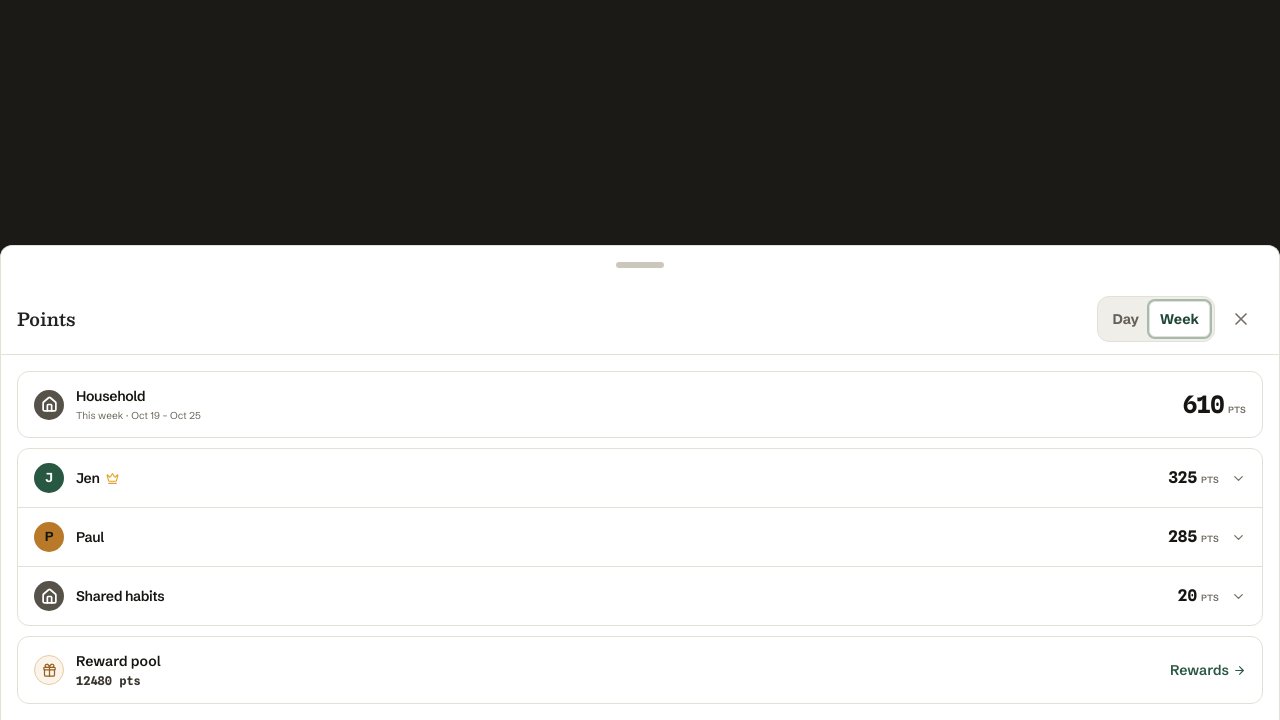
Test: PointsBreakdownDrawer › Shared habits row (household-points-visibility) › keeps the Shared habits row mounted across a Day↔Week switch, with no intermediate blank frame
The image size is (1280, 720).
Check: the element with test id "points-drawer-household-row" is shown, box [18,566,1262,625]
Click the radio button labelled "Day". click: [1126, 319]
box: [1102,301,1149,337]
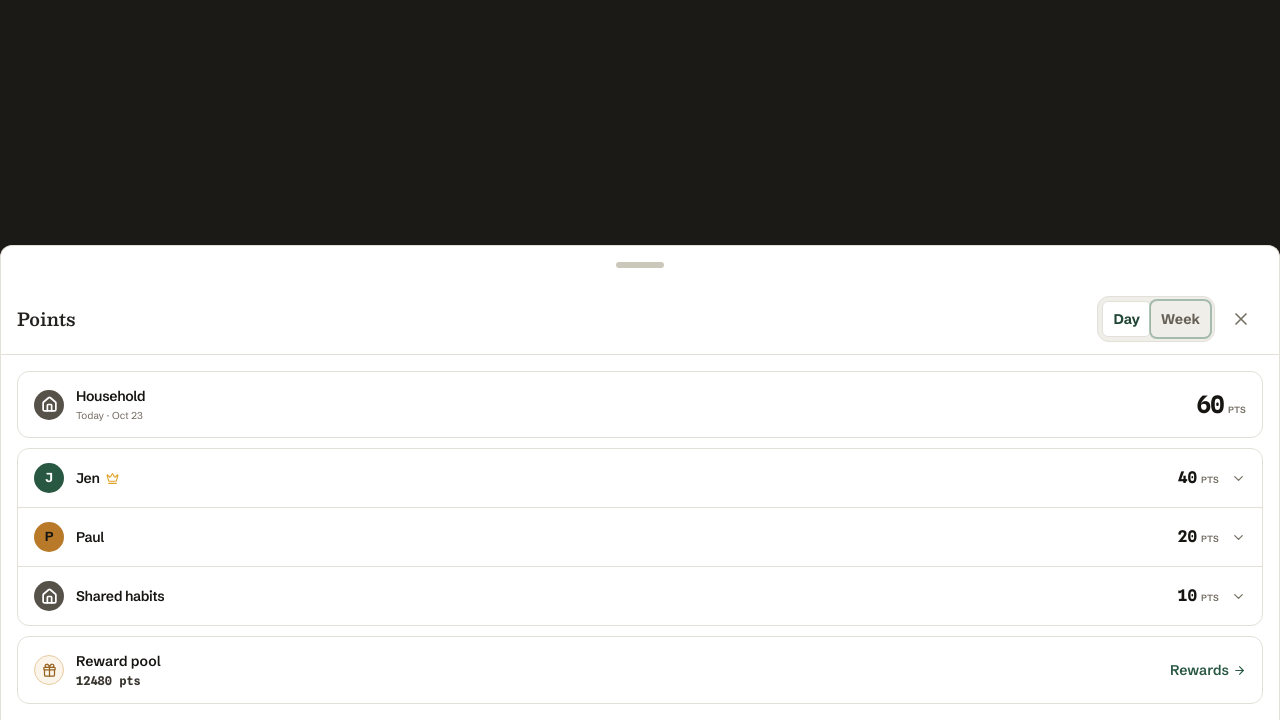
Check: the element with test id "points-drawer-household-row" shows "10", box [18,567,1262,625]
Click the radio button labelled "Week". click: [1181, 319]
box: [1151,301,1210,337]
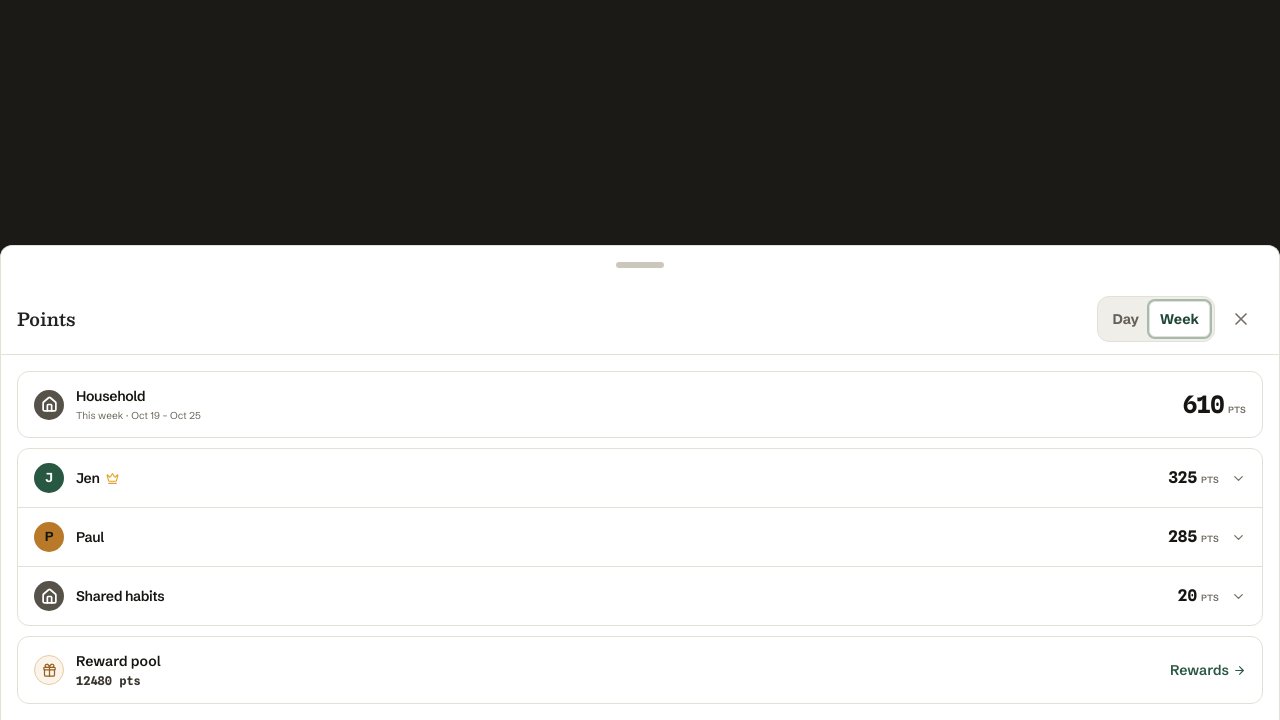
Check: the element with test id "points-drawer-household-row" shows "20", box [18,567,1262,625]
